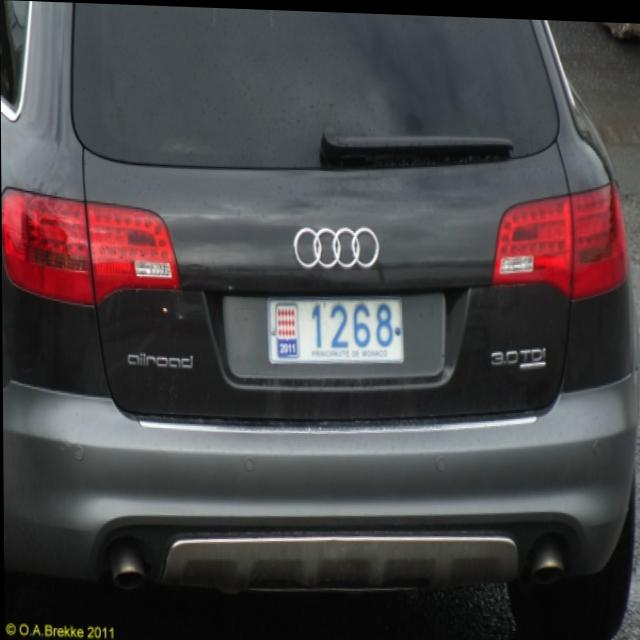licence: (264, 294, 401, 357)
